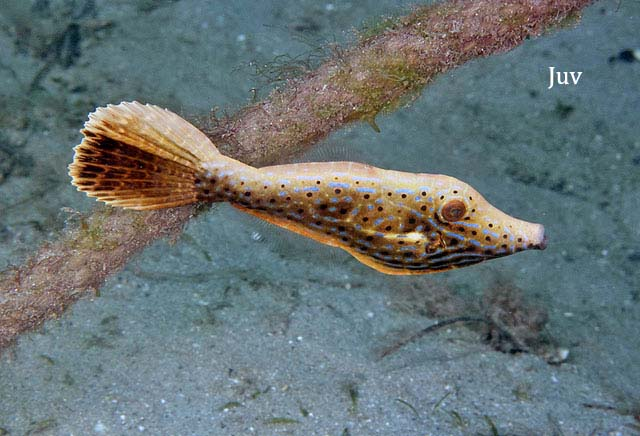Aluterus_scriptus: (65, 97, 549, 277)
